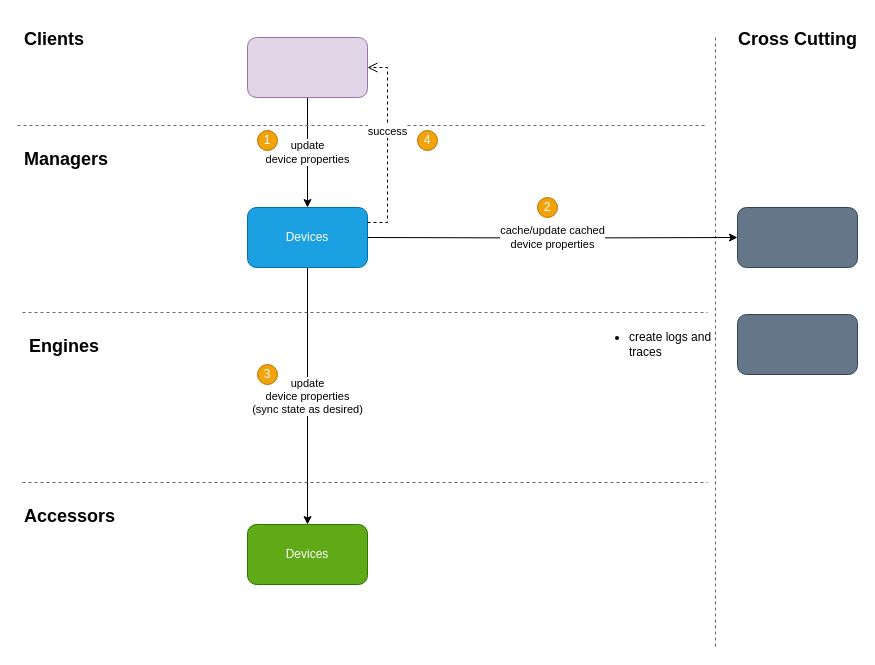
Some shapes in this 875 by 665 pixel diagram are drawn without their labels. The centre of each missing label's shape, as x and y in pixels:
"API" goes at [307,67].
"Caching" goes at [797,237].
"Logging" goes at [797,344].
